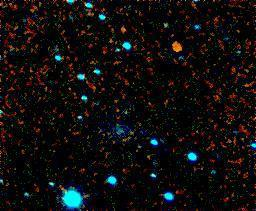star: (165, 31, 195, 61)
